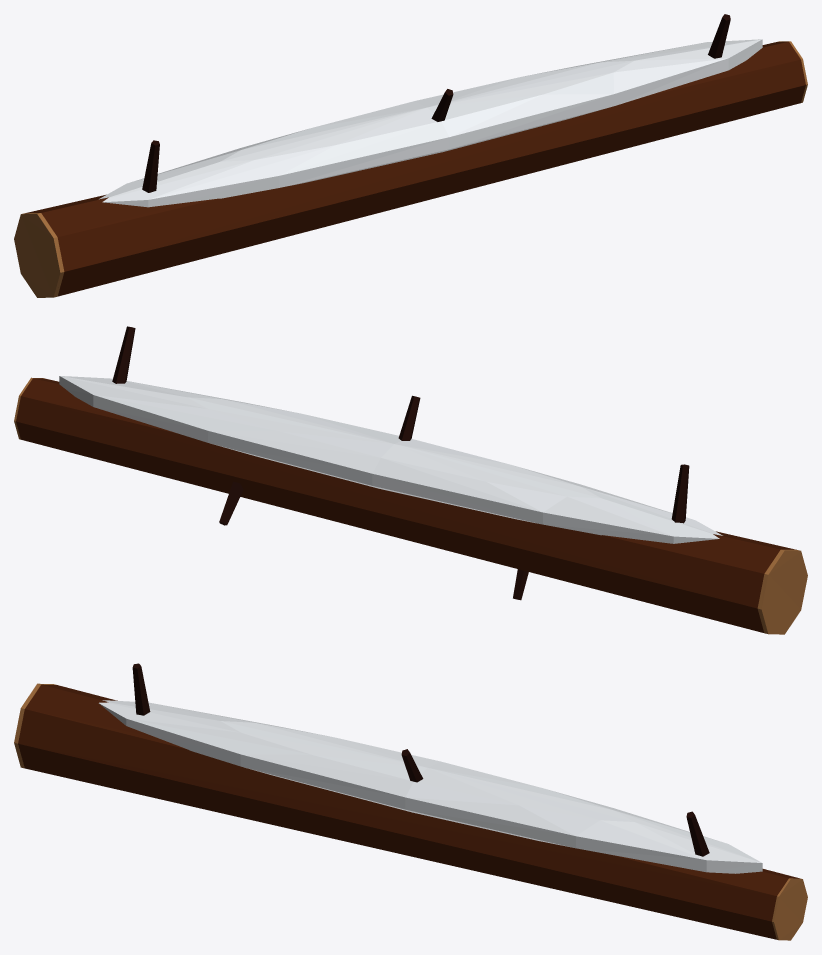
The model's file is rs_deadfall.glb.
3 renders of one model, top to bottom at view 1: azimuth 30°, elevation 25°; view 2: azimuth 150°, elevation 25°; view 3: azimuth 330°, elevation 25°, orthographic.
Visible parts, largest first — view 1: rs_deadfall.001; view 2: rs_deadfall.001; view 3: rs_deadfall.001.
Part boxes in pixels (box(x1,y1,x2,y2)): rs_deadfall.001: box(14, 14, 807, 297); rs_deadfall.001: box(14, 326, 807, 634); rs_deadfall.001: box(14, 663, 807, 940).
Bounding box in the file's own units: 5.63 × 1.07 × 0.722.
